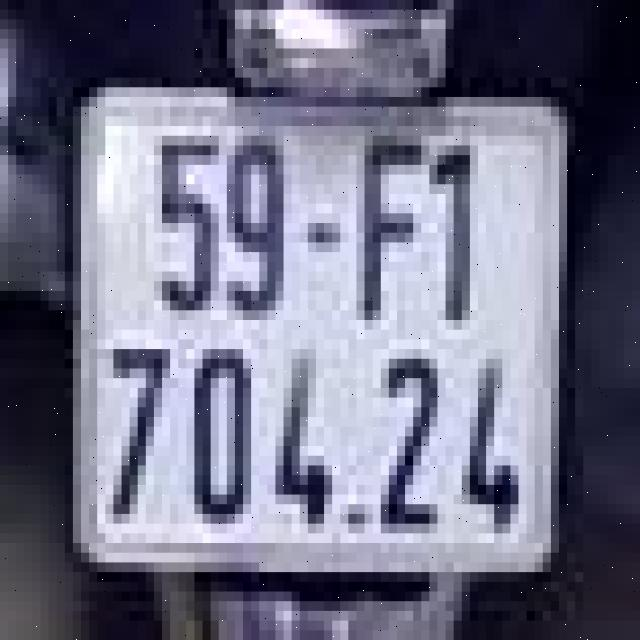0: (187, 344, 260, 538)
1: (421, 136, 486, 339)
2: (376, 354, 449, 538)
4: (268, 344, 348, 538), (462, 354, 526, 548)
5: (142, 126, 223, 320)
7: (93, 330, 174, 543)
9: (222, 131, 296, 325)
F: (352, 131, 426, 334)
